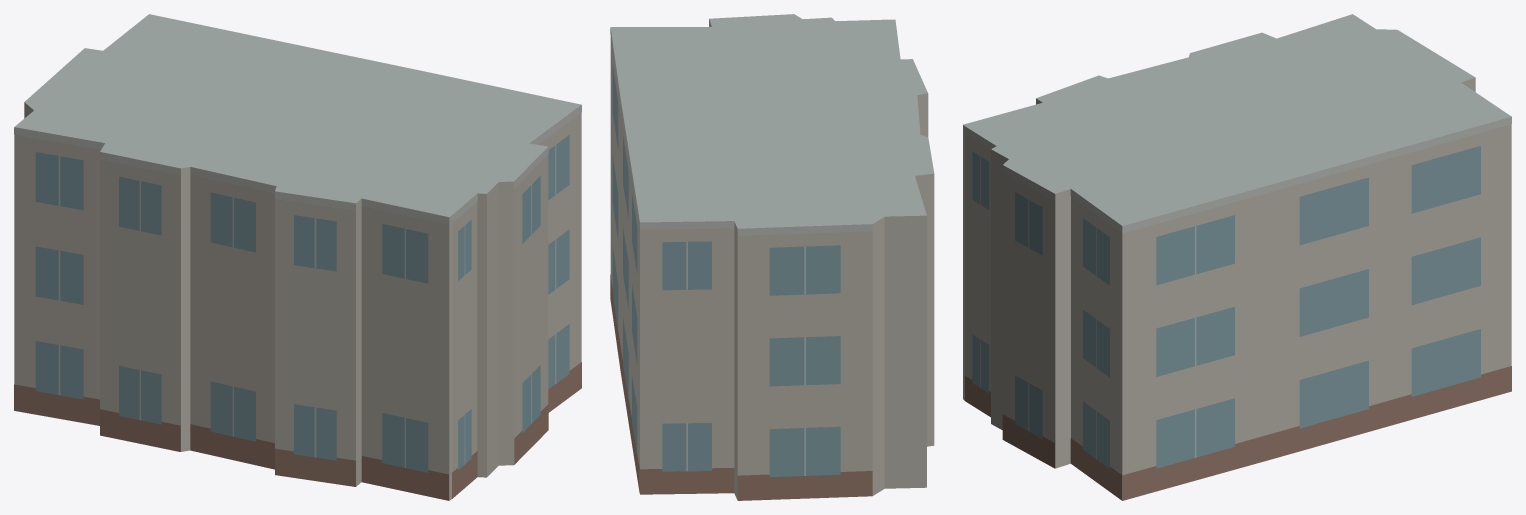
File: survey-upis-32974938.glb
The picture shows the model from 3 angles, left to right: view 1: azimuth 30°, elevation 25°; view 2: azimuth 150°, elevation 25°; view 3: azimuth 270°, elevation 25°; orthographic projection. The views are drawn at different scales.
Parts seen in each view (by area): view 1: survey-upis-32974938.tmp; view 2: survey-upis-32974938.tmp; view 3: survey-upis-32974938.tmp.
Part boxes in pixels (x1,y1,x2,y2): survey-upis-32974938.tmp: [14, 14, 581, 500]; survey-upis-32974938.tmp: [610, 14, 934, 500]; survey-upis-32974938.tmp: [963, 14, 1511, 500].
Size of the model in its own units: 15.16 by 9.15 by 16.57.
